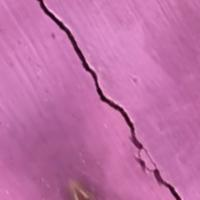crack: (38, 0, 182, 199)
